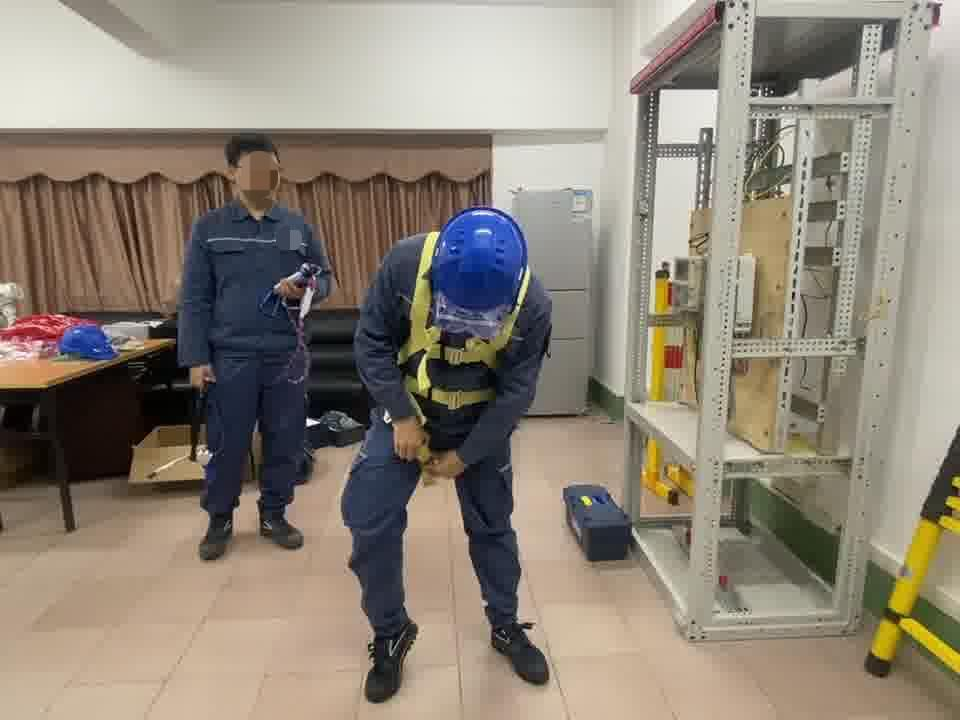halt: (425, 209, 540, 339)
noear: (224, 162, 246, 198)
unhalt: (225, 134, 287, 209)
